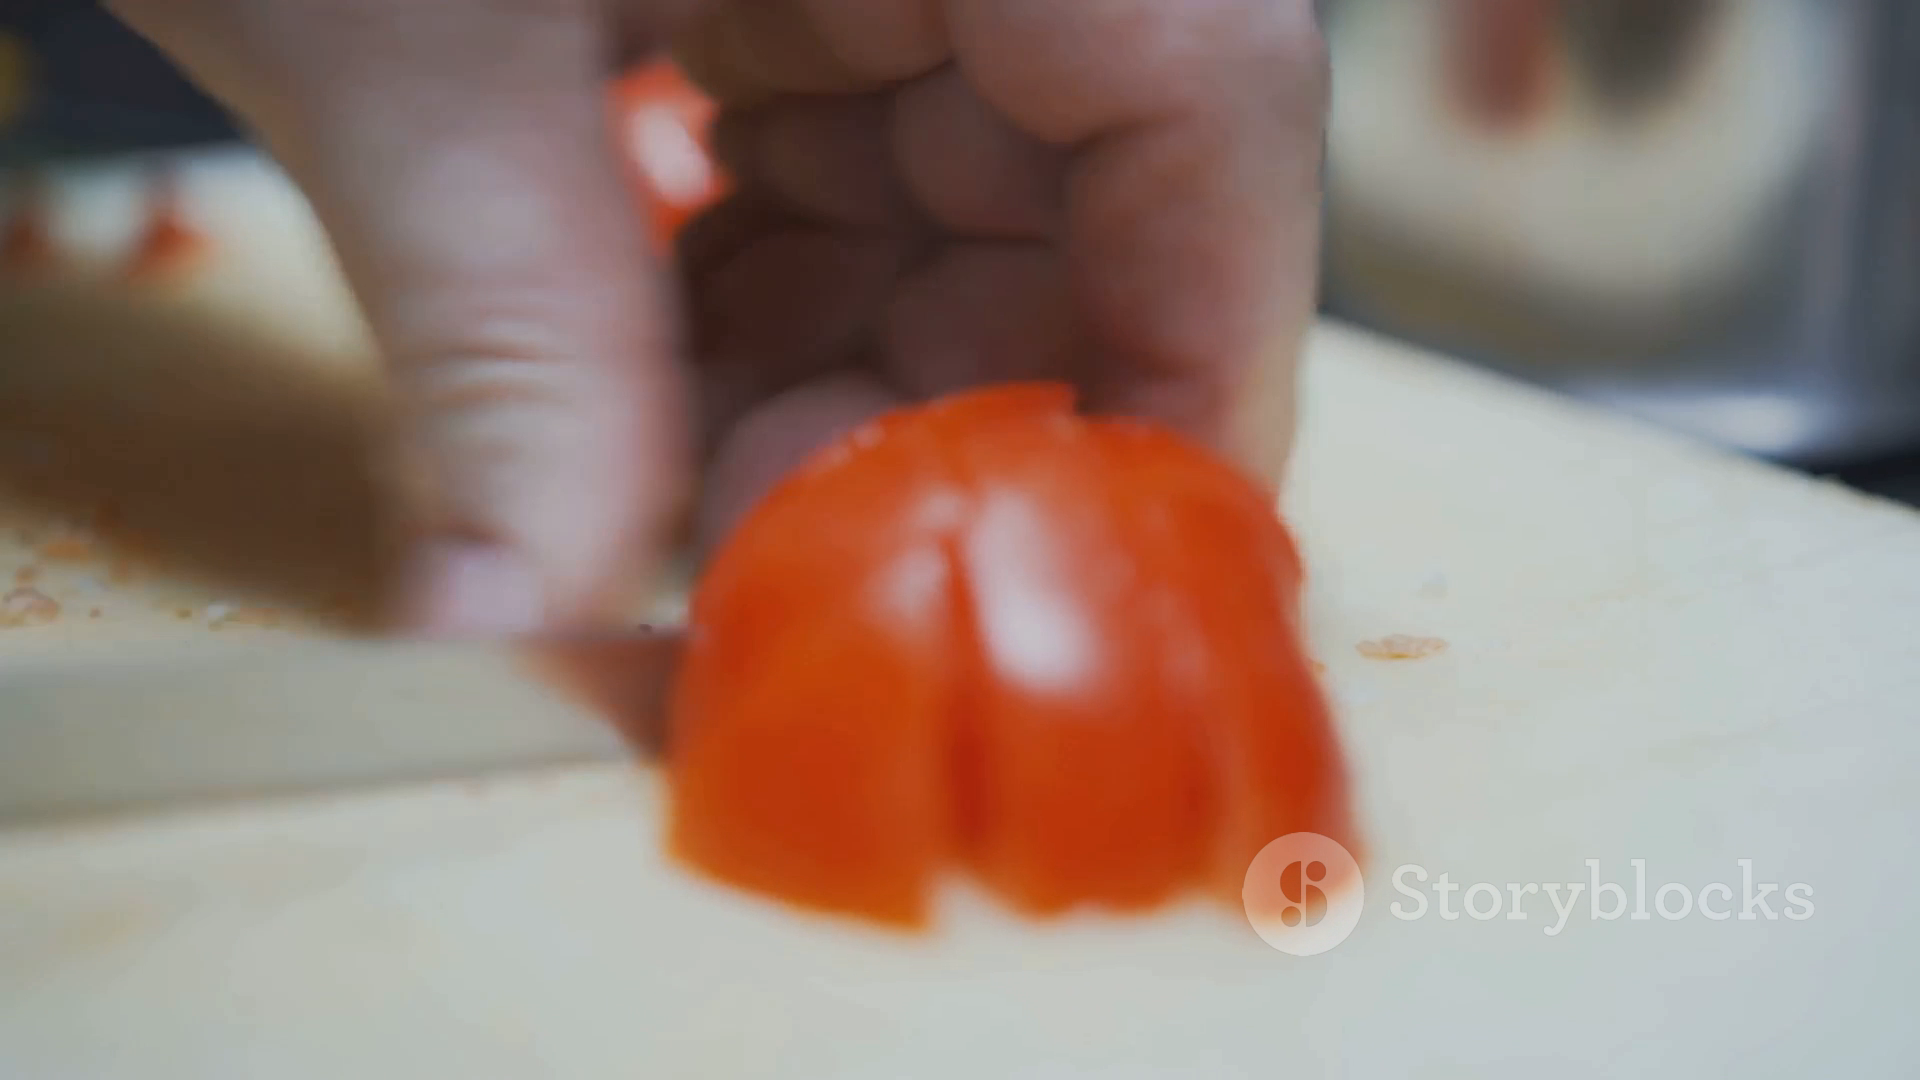cortante: (0, 616, 728, 827)
